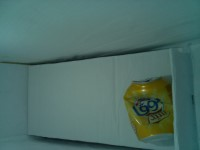kaleng: (122, 76, 174, 143)
